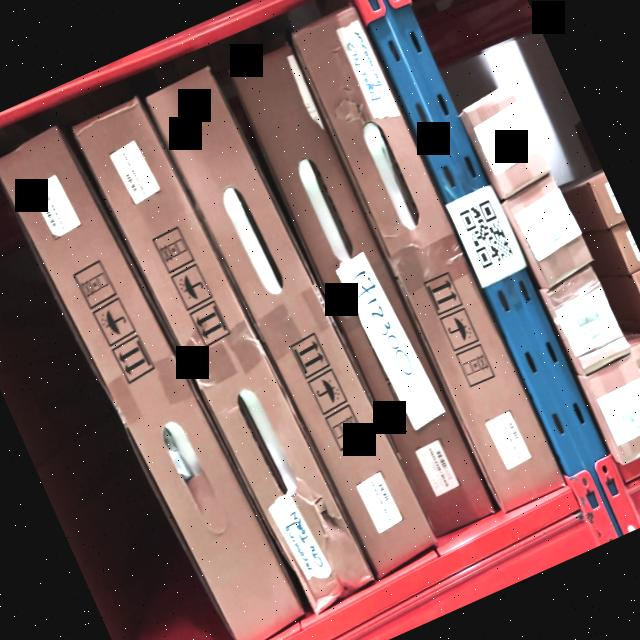box: (0, 125, 306, 640), (75, 103, 371, 611), (149, 72, 435, 575), (293, 4, 564, 509), (228, 42, 492, 538), (508, 178, 595, 289), (467, 81, 550, 194), (548, 269, 629, 372), (588, 358, 640, 461)
